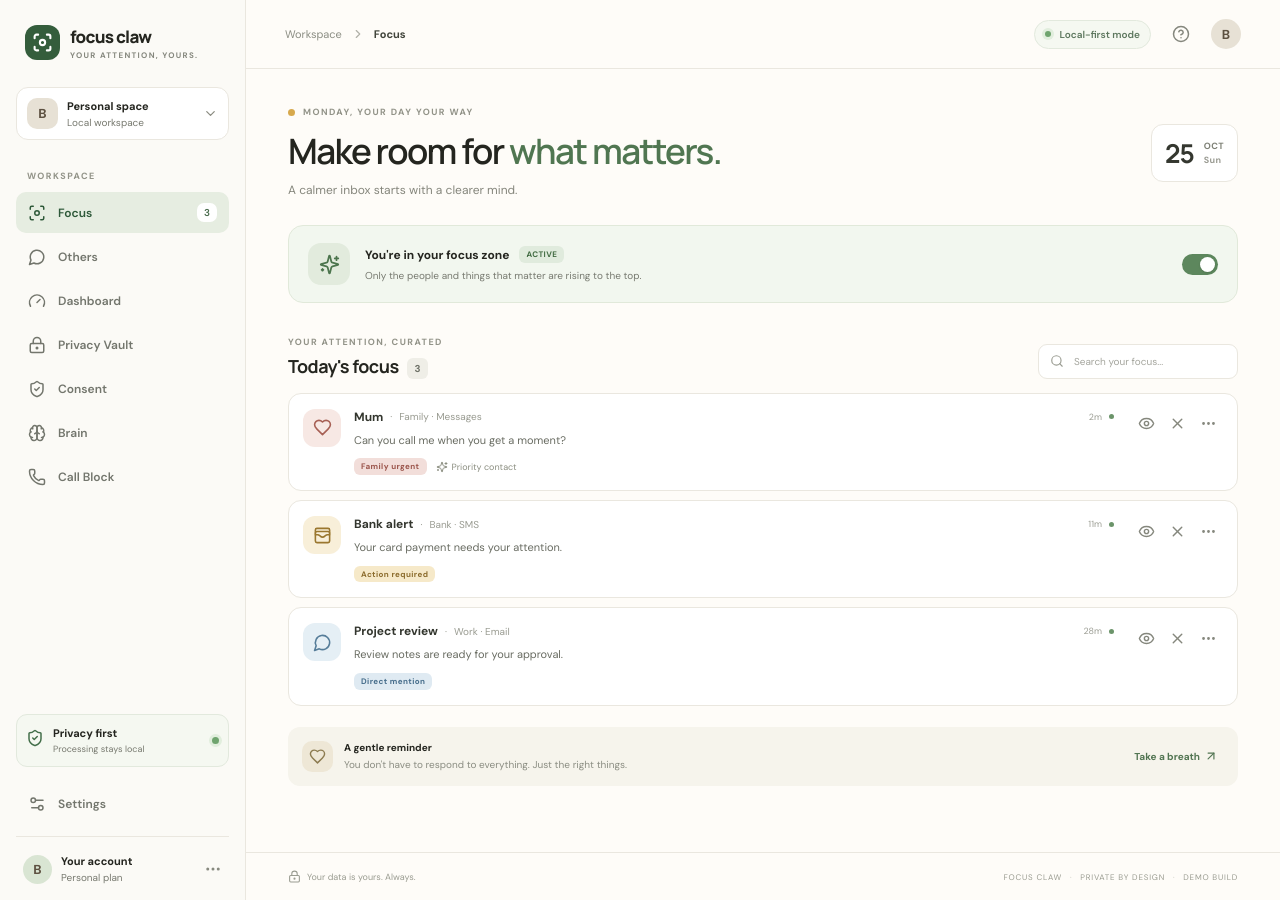
Focus Claw demo › can clear a sample focus item
The image size is (1280, 900).
Click the button named "Clear Mum": (1177, 424) x1=1162 y1=409 x2=1192 y2=439
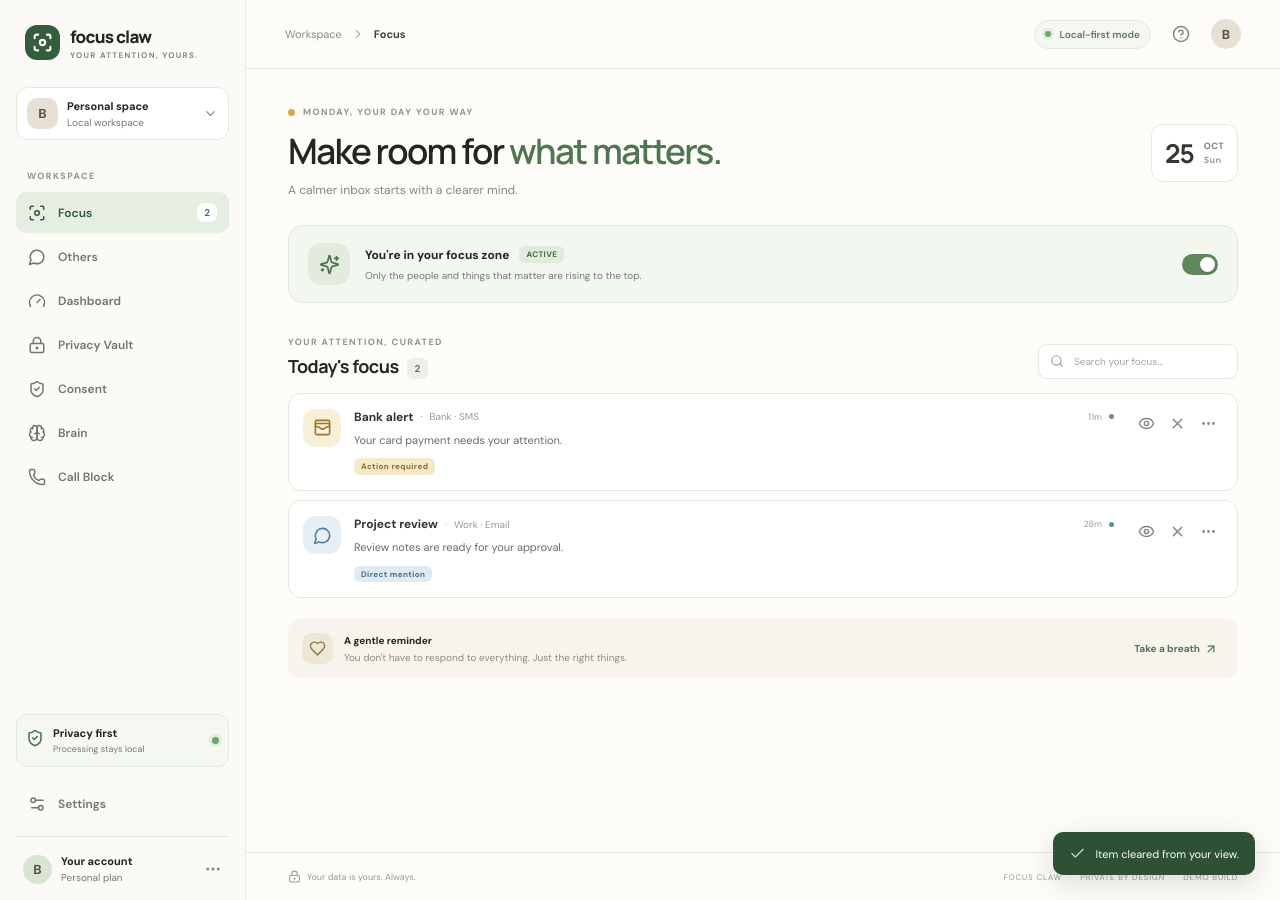
Expected: the text "Mum" is gone
